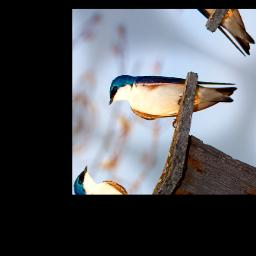Swallow: (103, 31, 240, 156)
